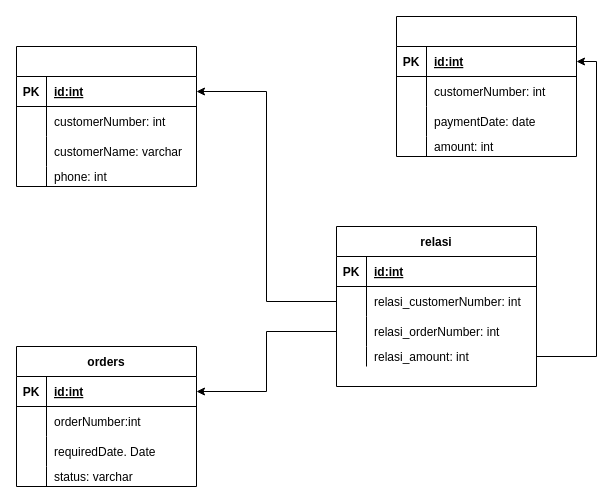
The diagram is 613 pixels wide and 503 high, and some of its shapes have lost their labels. The box of each missing label's shape, as (x1, y1, x2, y2) in pixels:
customers: (16, 46, 196, 186)
payments: (396, 16, 576, 156)
